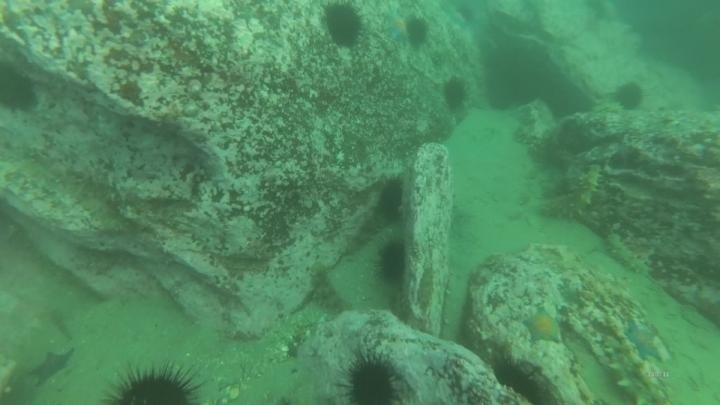echinus: (99, 360, 204, 404), (340, 351, 403, 405), (484, 352, 547, 405), (319, 1, 367, 49), (1, 57, 40, 115), (374, 237, 411, 286), (375, 176, 407, 220), (440, 75, 470, 113), (612, 80, 646, 112), (403, 14, 432, 49)
holothurian: (538, 159, 604, 218), (603, 332, 657, 404), (602, 230, 656, 277), (307, 262, 349, 317)
starfish: (622, 317, 669, 365), (28, 345, 76, 386), (521, 306, 566, 347), (381, 8, 413, 44)
